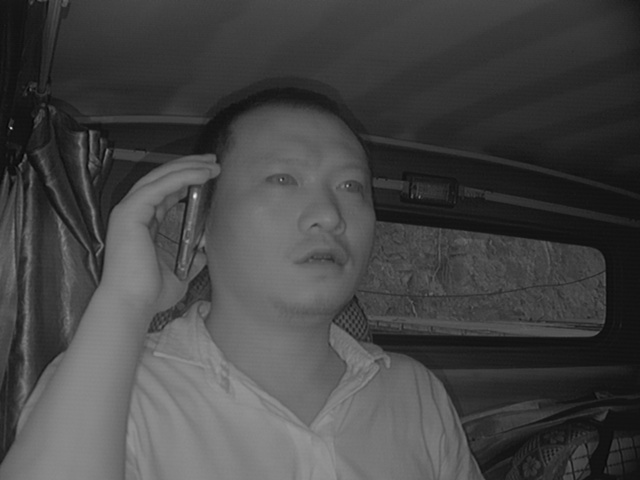hand: (105, 150, 218, 308)
